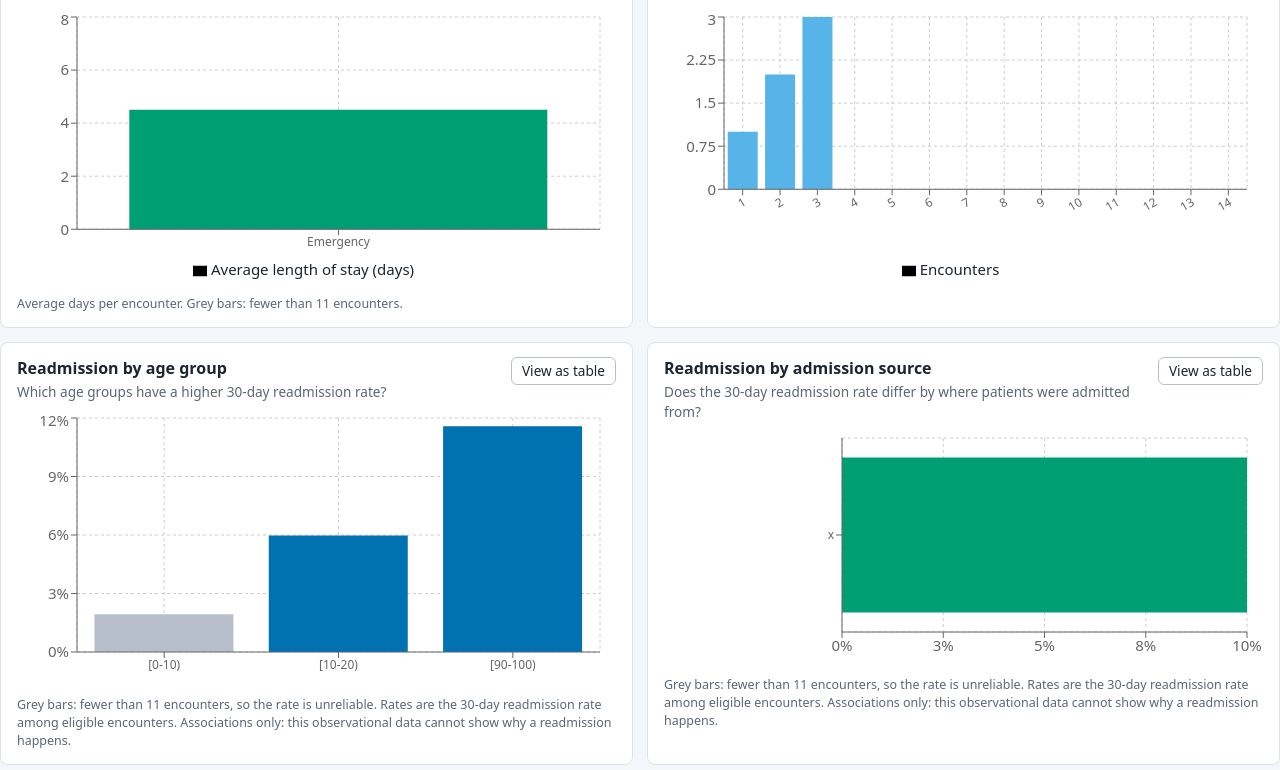
Scenario: Dashboard › every chart states its question and can be viewed as a table with small groups footnoted
The width and height of the screenshot is (1280, 770).
(page scrolled)
Expected: the element "Readmission by age group" shows "Which age groups have a higher 30-day readmission rate?", [17, 382, 386, 401]
Expected: the element "Readmission by age group" shows "fewer than 11 encounters", [17, 696, 612, 749]
What coordinates should you click on to do the following:
click the button "View as table" in the row of "Readmission by age group"
I would click on:
 (564, 371)
Its box is [511, 357, 616, 385].
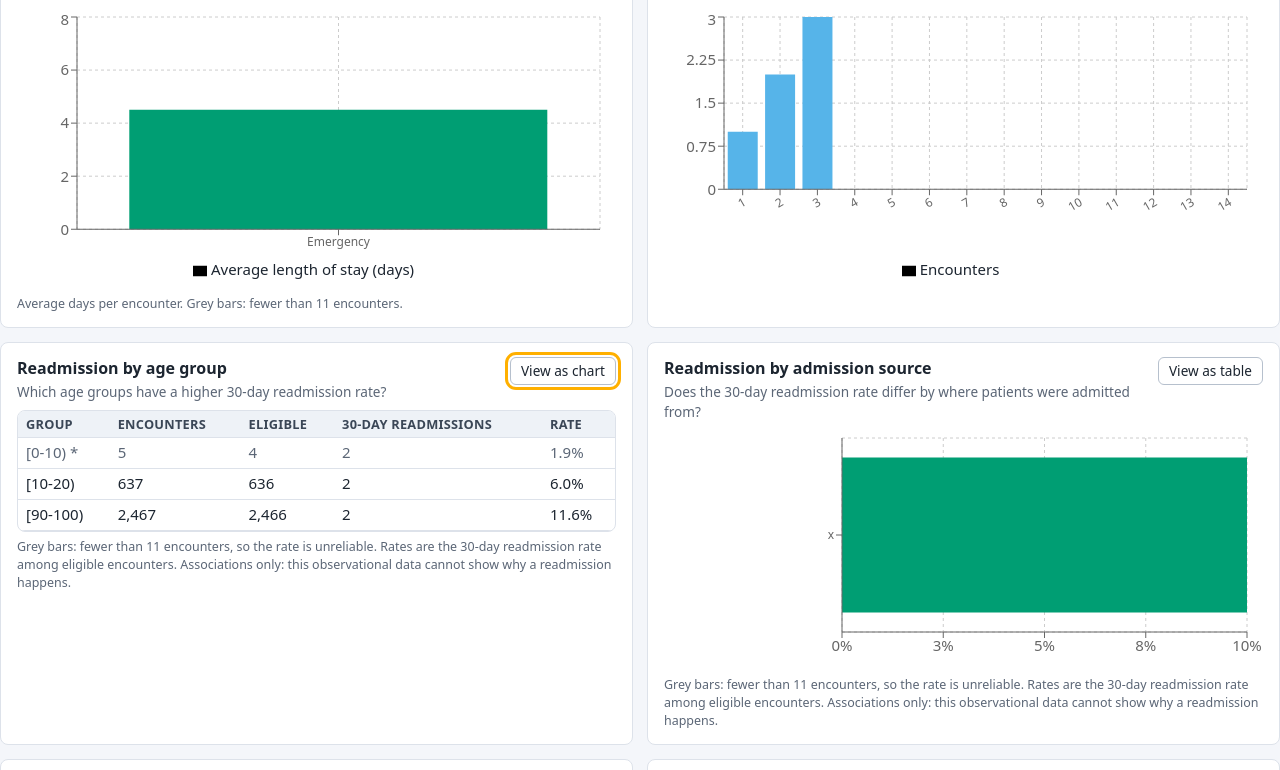
Now the element "Readmission by age group" shows "[0-10) *", box [0, 342, 633, 745]
Now the element "Readmission by age group" shows "1.9%", box [550, 442, 584, 462]
